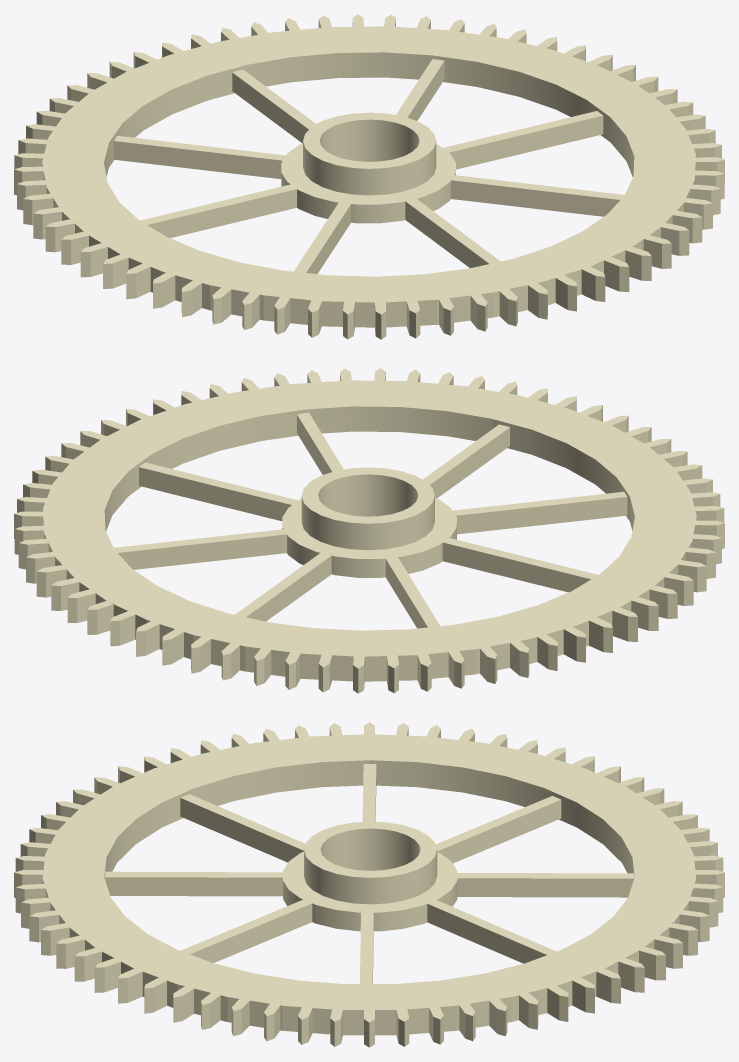
The model's file is gear.FBX.
The picture shows the model from 3 angles, top to bottom: view 1: azimuth 30°, elevation 25°; view 2: azimuth 150°, elevation 25°; view 3: azimuth 270°, elevation 25°; orthographic projection.
Parts seen in each view (by area): view 1: gear3_001; view 2: gear3_001; view 3: gear3_001.
Boxes of the visible parts, x1,y1,x2,y2 form: gear3_001: (14, 14, 724, 339); gear3_001: (14, 368, 724, 693); gear3_001: (14, 722, 724, 1047).
Bounding box in the file's own units: 249 × 18.62 × 249.
